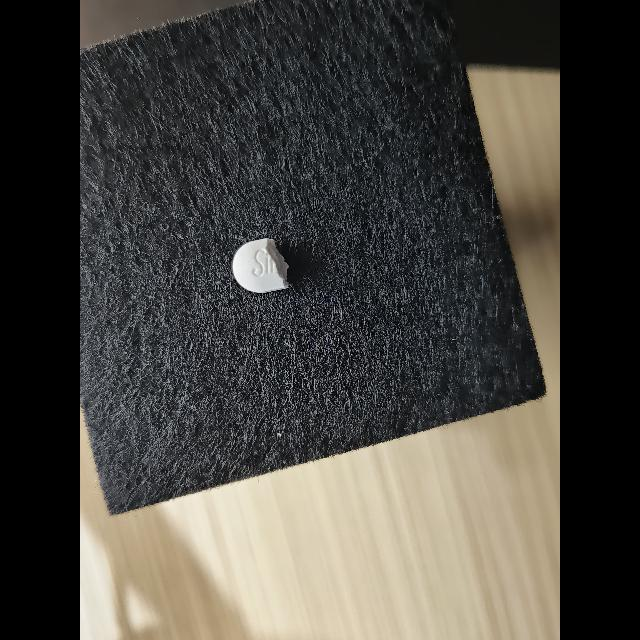Chipped Pill: (233, 238, 289, 293)
